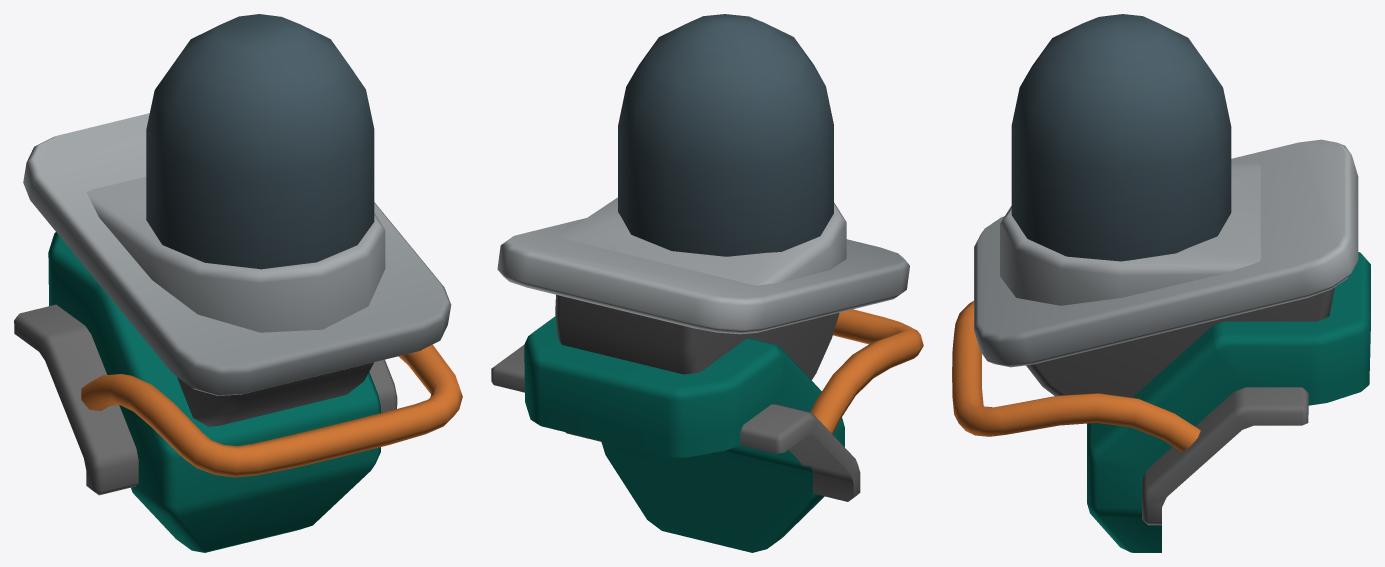
Rendered from terminal_004.fbx.
The picture shows the model from 3 angles, left to right: view 1: azimuth 30°, elevation 25°; view 2: azimuth 150°, elevation 25°; view 3: azimuth 270°, elevation 25°; orthographic projection. The views are drawn at different scales.
Parts seen in each view (by area): view 1: terminal_004; view 2: terminal_004; view 3: terminal_004.
Boxes of the visible parts, bbox=[...] form: terminal_004: bbox=[14, 14, 462, 552]; terminal_004: bbox=[491, 14, 923, 552]; terminal_004: bbox=[952, 14, 1370, 552].
Size of the model in its own units: 201 by 248 by 330.
